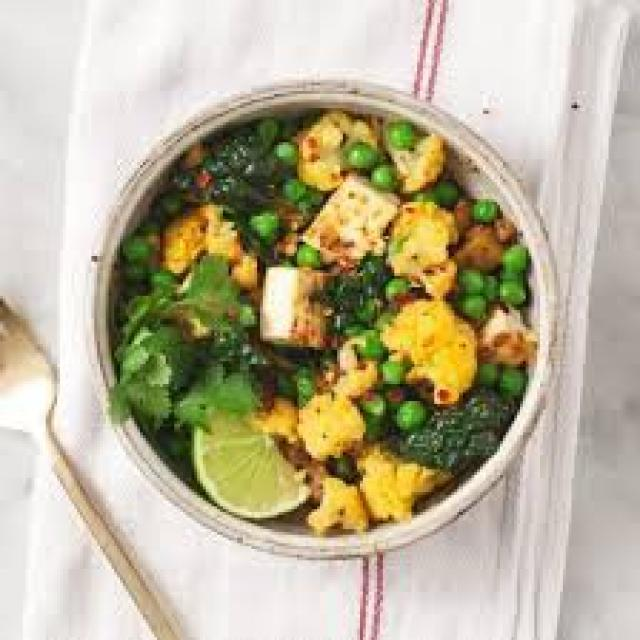Aloo Gobi: (125, 119, 528, 525)
